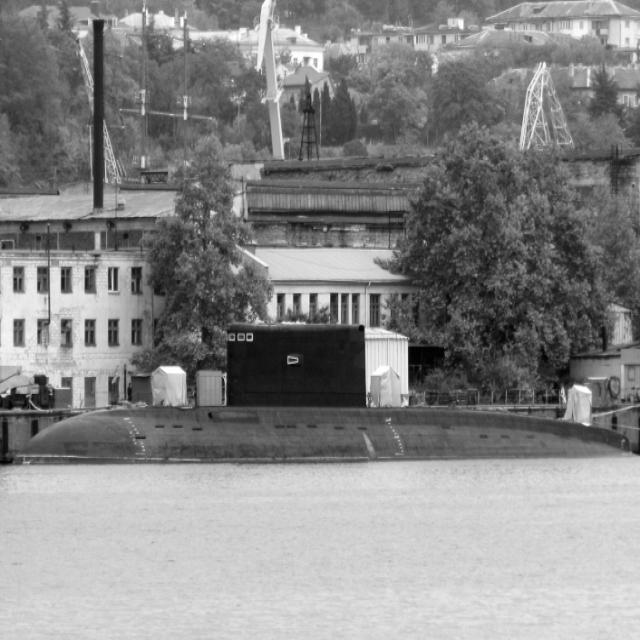submarine: (11, 323, 630, 469)
